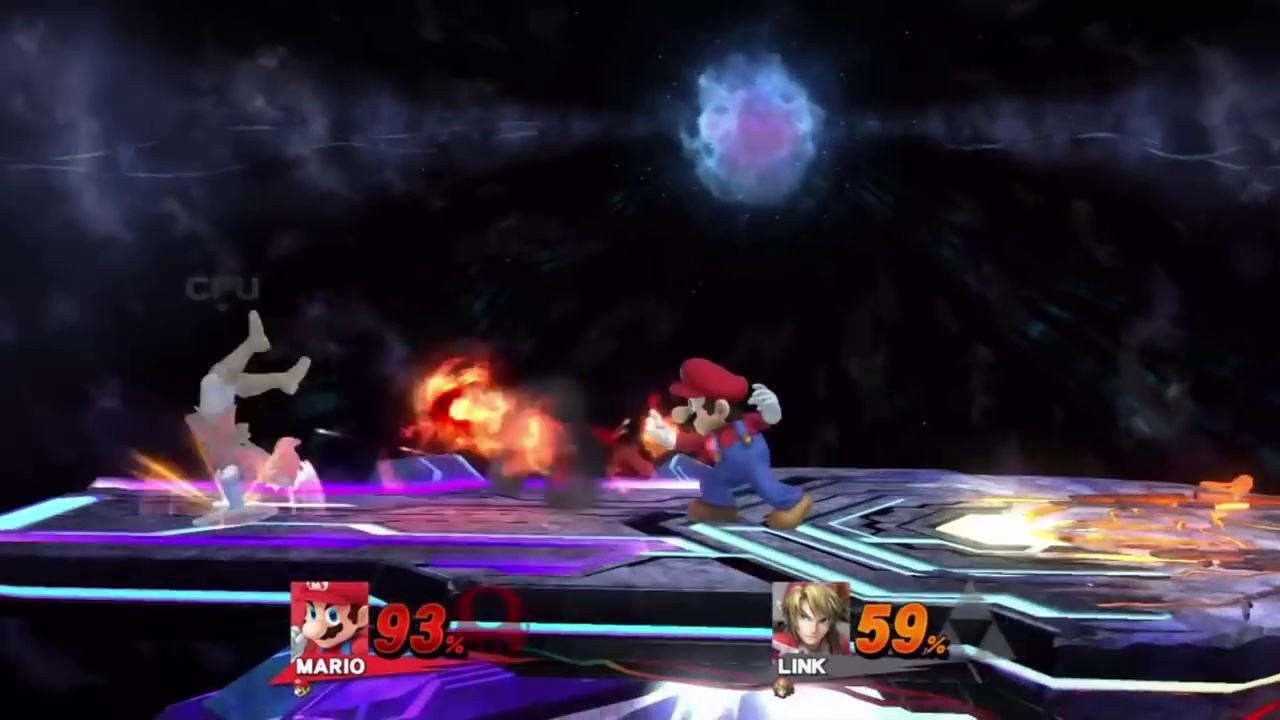Mario: (647, 358, 813, 527)
